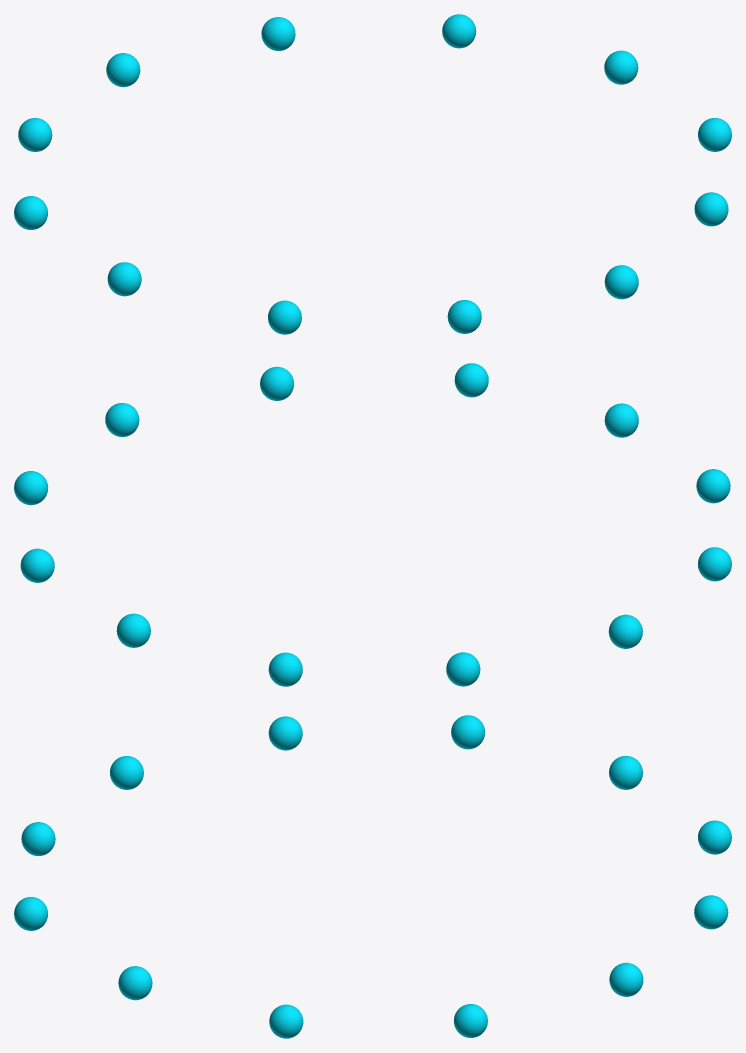
3 views of the same model, one above another, from view 1: azimuth 30°, elevation 25°; view 2: azimuth 150°, elevation 25°; view 3: azimuth 270°, elevation 25° (orthographic).
Visible parts, largest first — view 1: Sphere050; view 2: Sphere050; view 3: Sphere050.
Part boxes in pixels (x1=…): Sphere050: x1=14, y1=14, x2=731, y2=334; Sphere050: x1=14, y1=363, x2=731, y2=686; Sphere050: x1=14, y1=715, x2=731, y2=1038.
Size of the model in its own units: 173 by 8.22 by 173.
